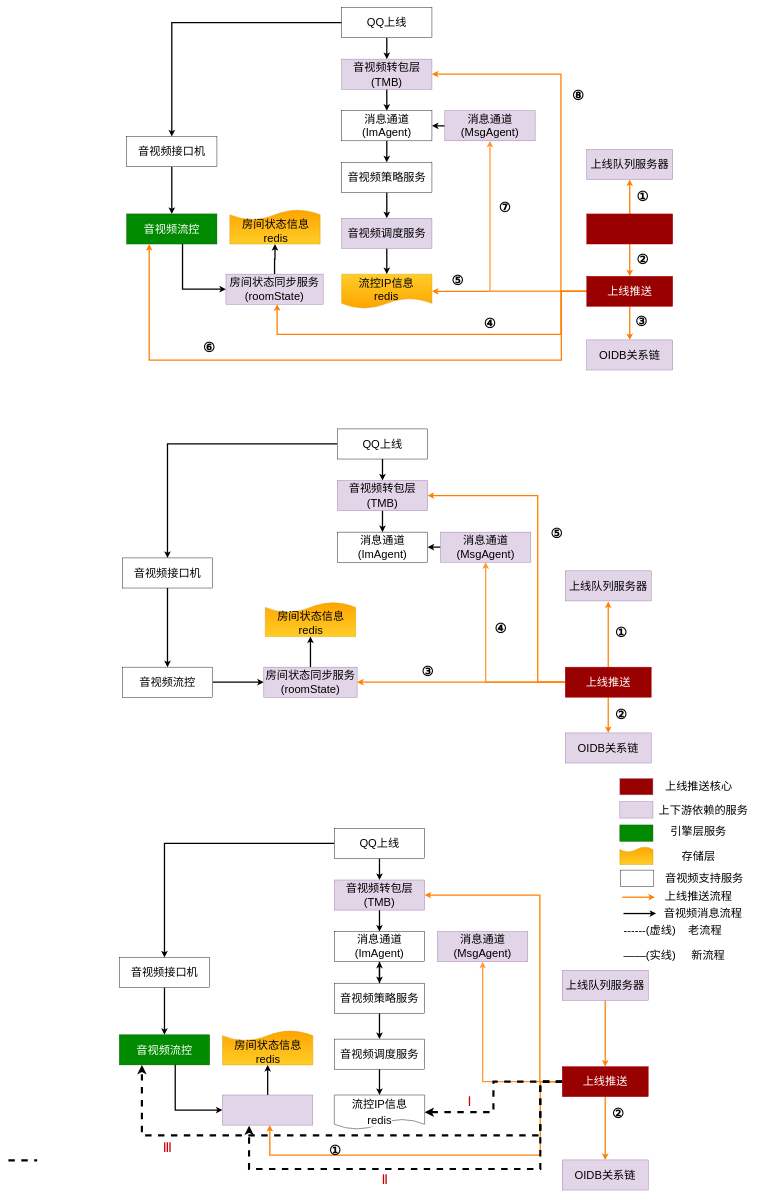
Some shapes in this 758 by 1198 pixel diagram are drawn without their labels. Each missing label, with the box of its shape:
上线队列分发器: (586, 213, 673, 244)
房间状态同步服务 roomState: (222, 1095, 313, 1125)
